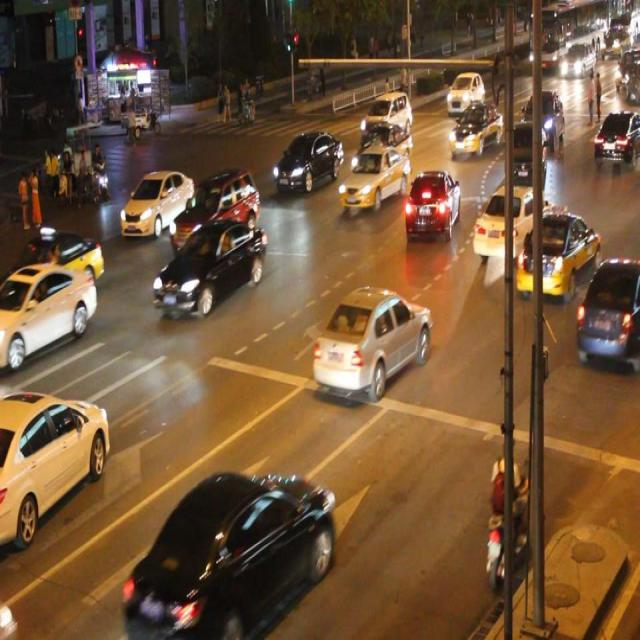car: (124, 471, 332, 640), (0, 390, 110, 524), (311, 284, 430, 396), (153, 219, 265, 318), (1, 264, 98, 368), (1, 229, 105, 301), (172, 169, 260, 251), (574, 256, 640, 362), (516, 210, 598, 294), (471, 183, 543, 257), (338, 145, 409, 212), (121, 172, 194, 236), (403, 168, 461, 240), (272, 131, 342, 190), (350, 123, 413, 176), (447, 102, 501, 156), (591, 108, 640, 163), (359, 91, 412, 141), (503, 120, 544, 184)
